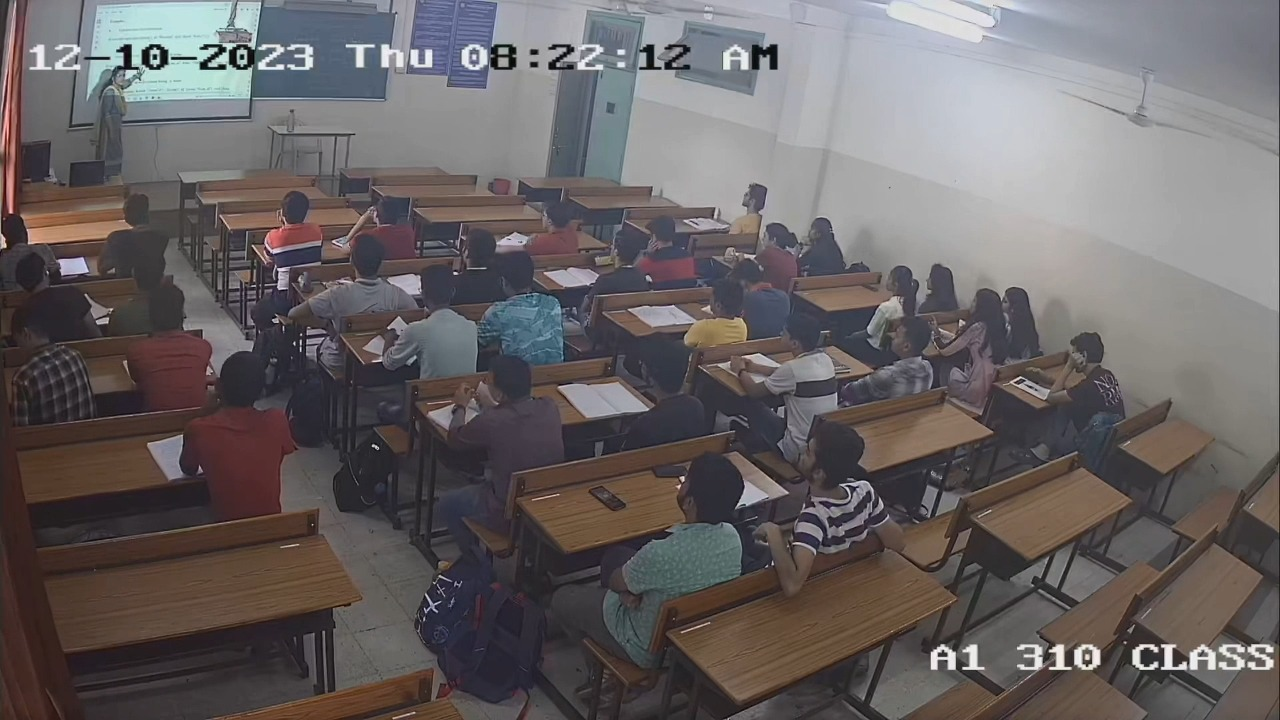cell-phones: (586, 485, 627, 512), (651, 461, 689, 479), (592, 253, 617, 267), (860, 284, 880, 293)
person: (608, 453, 744, 623), (757, 423, 900, 573), (859, 266, 917, 344), (585, 229, 647, 295)
